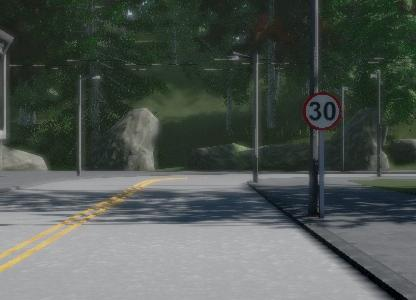Speed_30: (301, 90, 343, 131)
